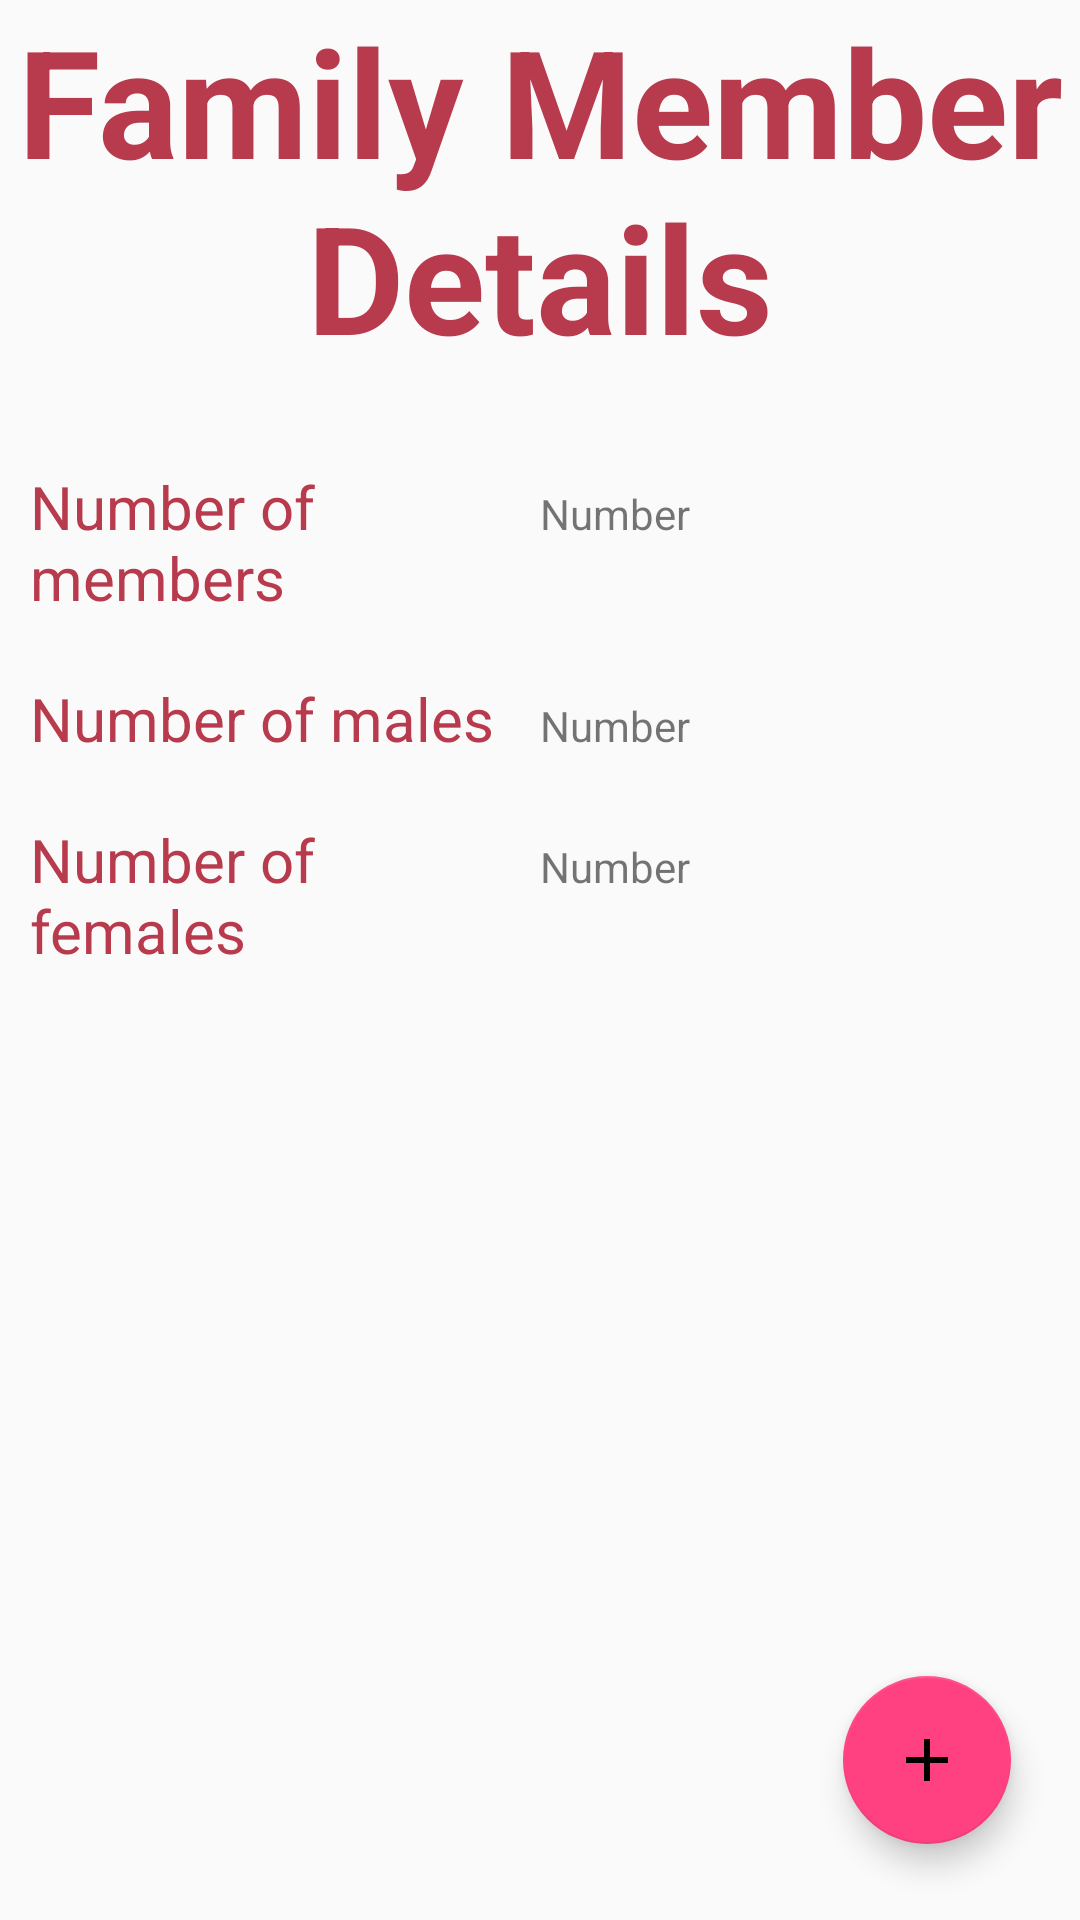

Icon click points for this 1080×1920 phone screenshot, format (x=x, y=y):
add: (x=927, y=1760)
